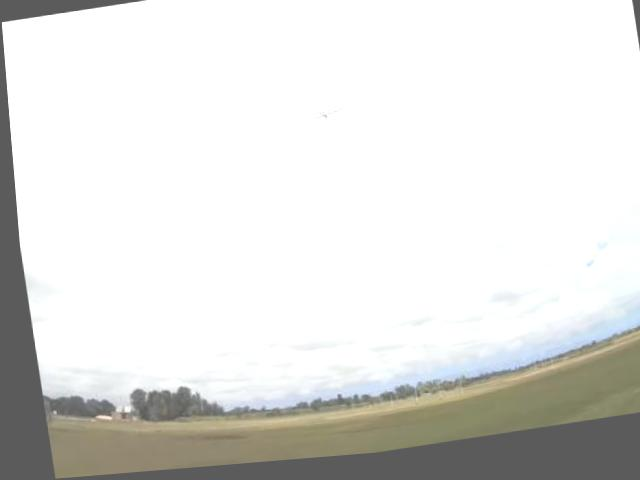uav: (295, 98, 350, 137)
